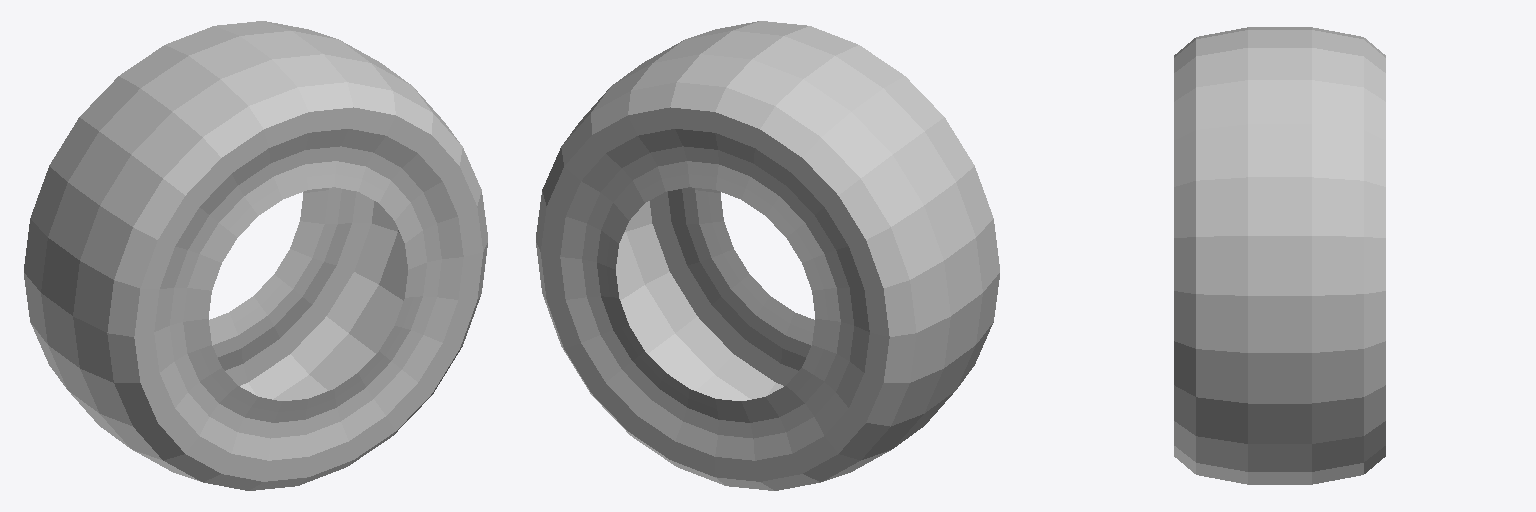
Rendered from TireMesh.obj.
The picture shows the model from 3 angles: view 1: azimuth 30°, elevation 25°; view 2: azimuth 150°, elevation 25°; view 3: azimuth 270°, elevation 25°; orthographic projection.
Visible parts, largest first — view 1: TireMesh; view 2: TireMesh; view 3: TireMesh.
Boxes of the visible parts, box(x1,y1,x2,y2) form: TireMesh: box(24, 21, 487, 490); TireMesh: box(536, 21, 999, 490); TireMesh: box(1174, 27, 1385, 484).
Bounding box in the file's own units: 4.39 × 4.39 × 2.02.